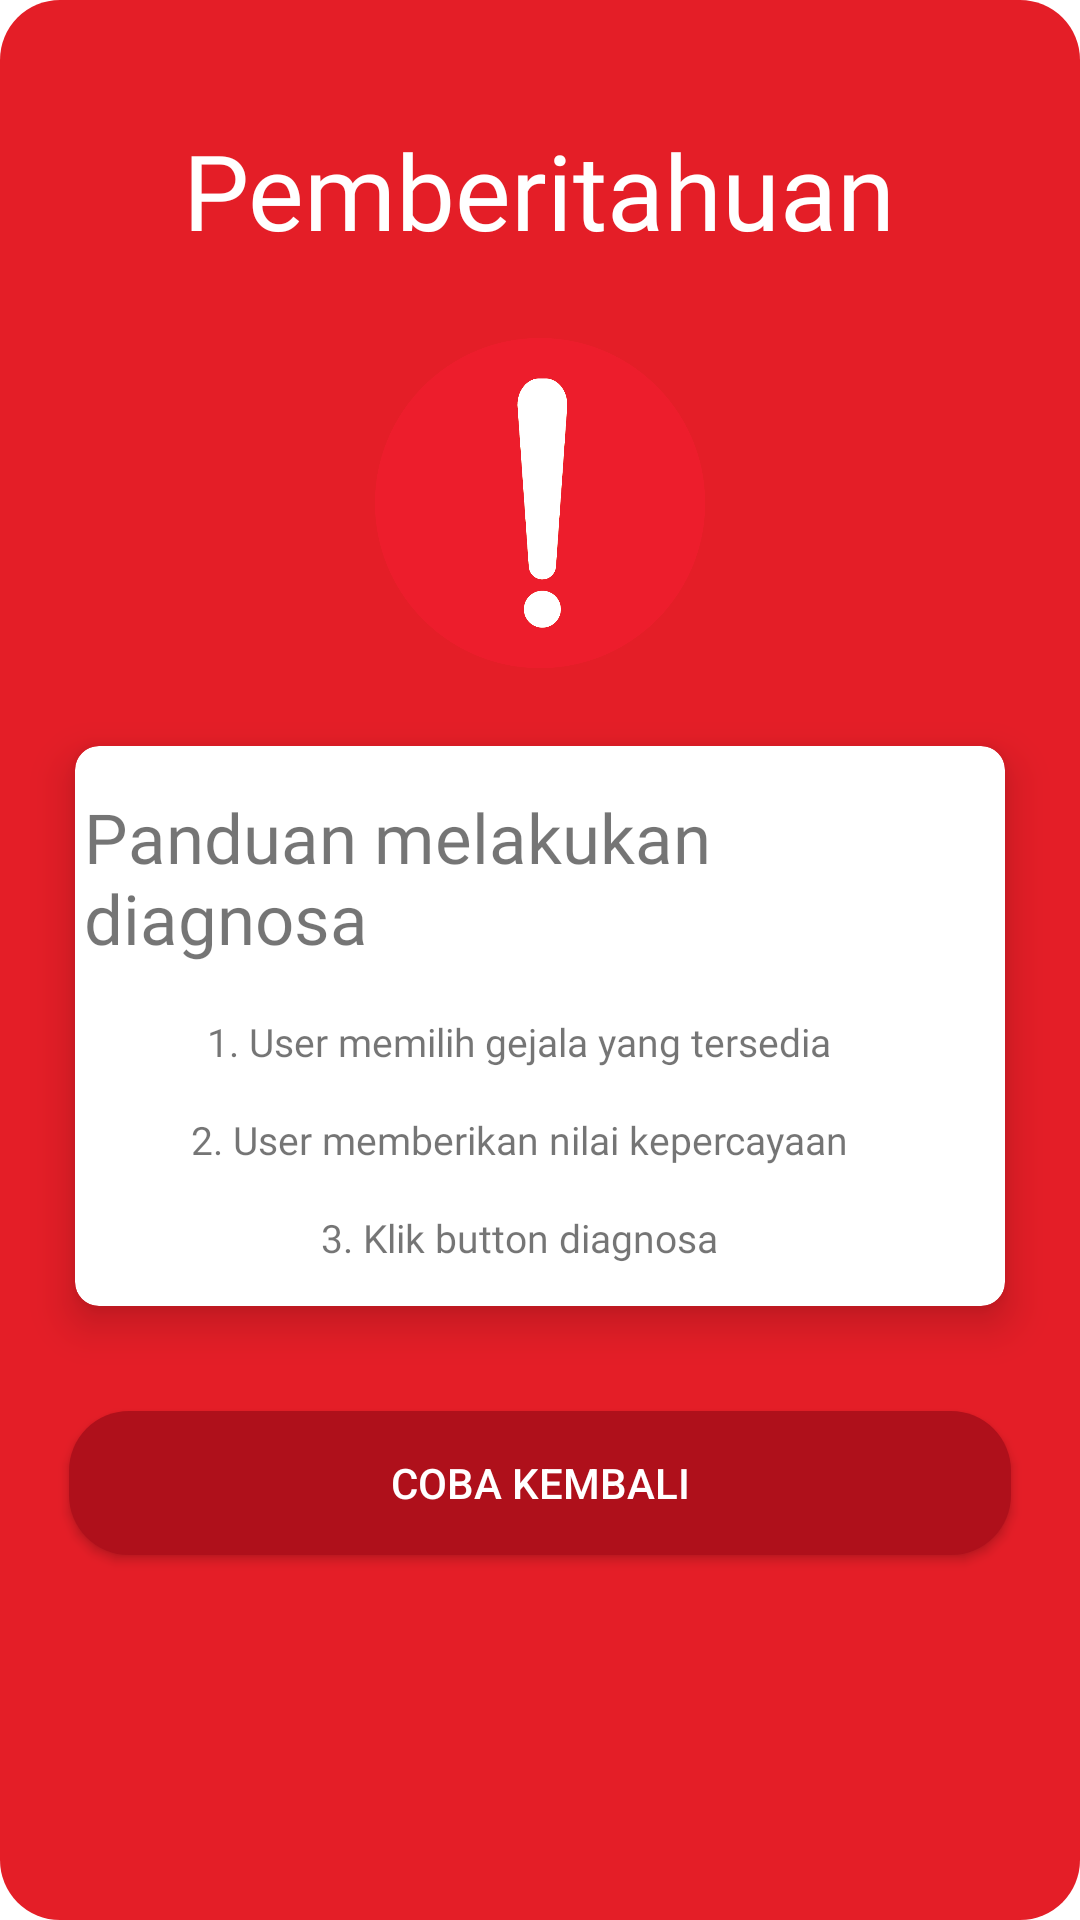

Point at icon controls on the screen. Image size 1080w x 1920h, points as [x,y].
Warning: [542,503]
